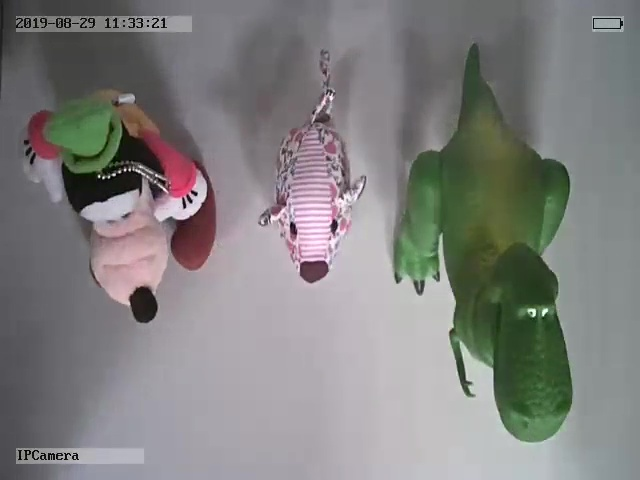goofy: (21, 81, 219, 324)
pig: (256, 50, 367, 284)
rex: (393, 44, 574, 443)
